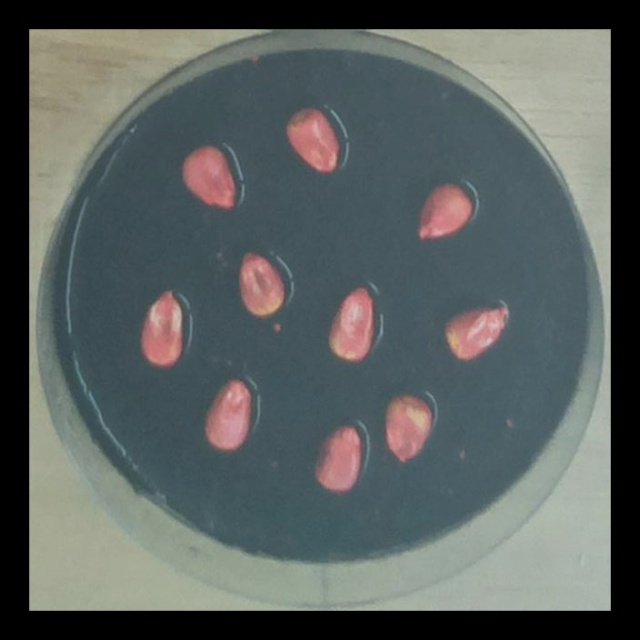Zea mays: (174, 138, 245, 217), (320, 278, 381, 368), (280, 99, 347, 179), (439, 296, 515, 366), (198, 368, 257, 456), (133, 282, 190, 371), (378, 386, 437, 468), (412, 174, 479, 246), (308, 416, 366, 498), (231, 242, 291, 321)
